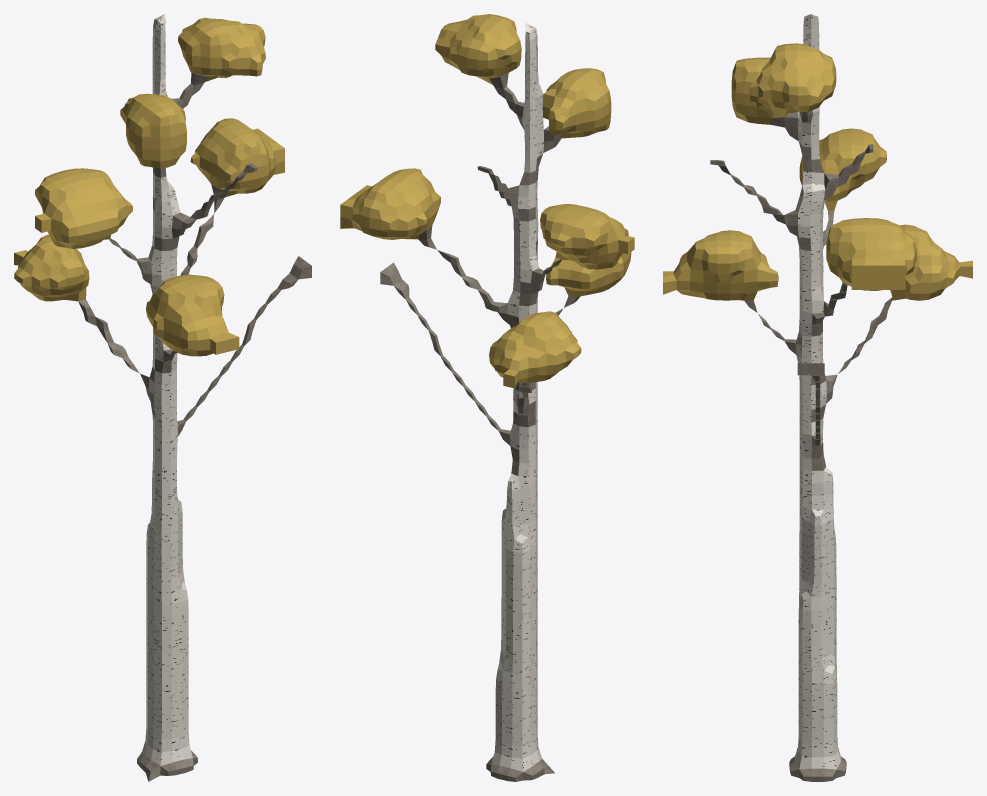
The model's file is tree_birch.glb.
3 renders of one model, left to right at view 1: azimuth 30°, elevation 25°; view 2: azimuth 150°, elevation 25°; view 3: azimuth 270°, elevation 25°, orthographic.
Parts seen in each view (by area): view 1: wilds_tree_birch; view 2: wilds_tree_birch; view 3: wilds_tree_birch.
Part boxes in pixels (x1,y1,x2,y2): wilds_tree_birch: (14, 14, 311, 781); wilds_tree_birch: (340, 14, 634, 781); wilds_tree_birch: (663, 14, 972, 781).
Bounding box in the file's own units: 1.79 × 5.04 × 1.87.
Materials: 2 (1 with a texture image).
